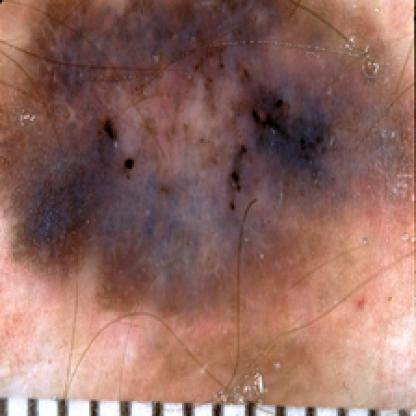malignant: (7, 13, 398, 293)
